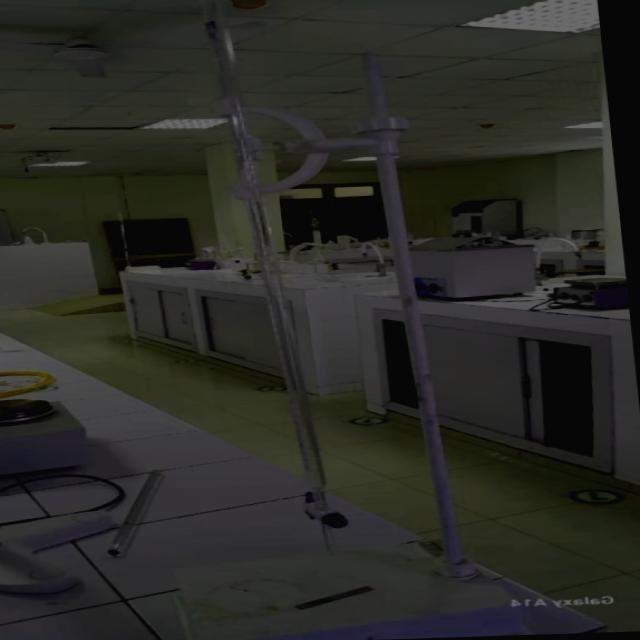Biurette: (185, 4, 383, 561)
